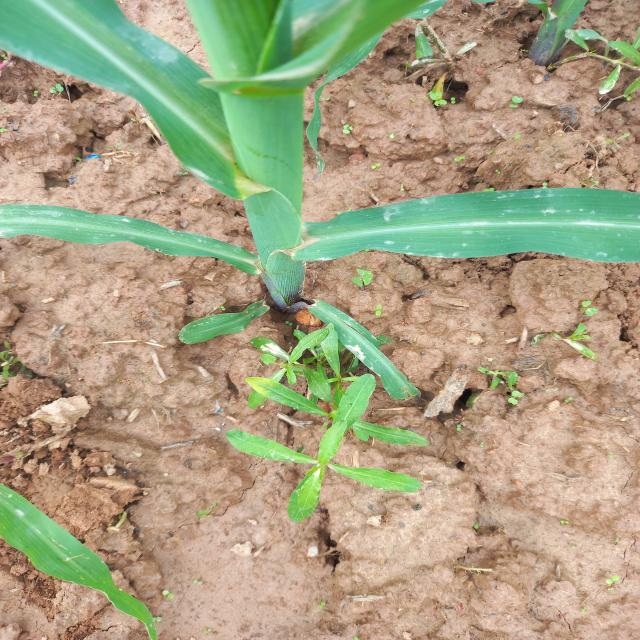maize: (1, 0, 640, 314)
weed: (229, 412, 428, 514), (244, 323, 362, 422), (463, 366, 538, 411), (543, 316, 598, 358)
